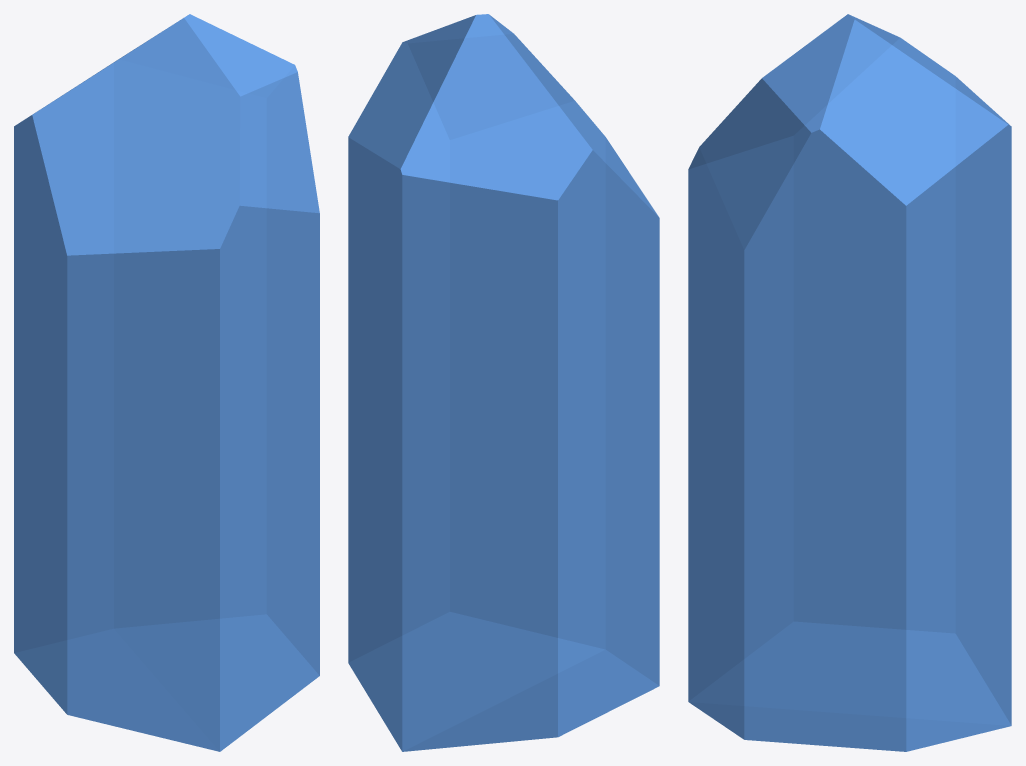
Rendered from Crystal_m_12.fbx.
The picture shows the model from 3 angles, left to right: view 1: azimuth 30°, elevation 25°; view 2: azimuth 150°, elevation 25°; view 3: azimuth 270°, elevation 25°; orthographic projection. The views are drawn at different scales.
Visible parts, largest first — view 1: Crystal_m_12; view 2: Crystal_m_12; view 3: Crystal_m_12.
Part boxes in pixels (x1=…): Crystal_m_12: x1=14, y1=14, x2=319, y2=751; Crystal_m_12: x1=348, y1=14, x2=659, y2=751; Crystal_m_12: x1=688, y1=14, x2=1011, y2=751.
Size of the model in its own units: 0.7896 by 2 by 0.8275.
